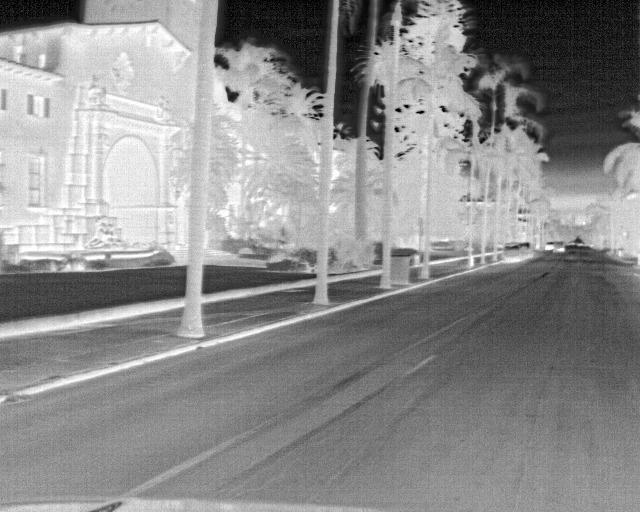car: (501, 243, 523, 262), (517, 241, 533, 259), (552, 240, 567, 254), (543, 239, 556, 252)
